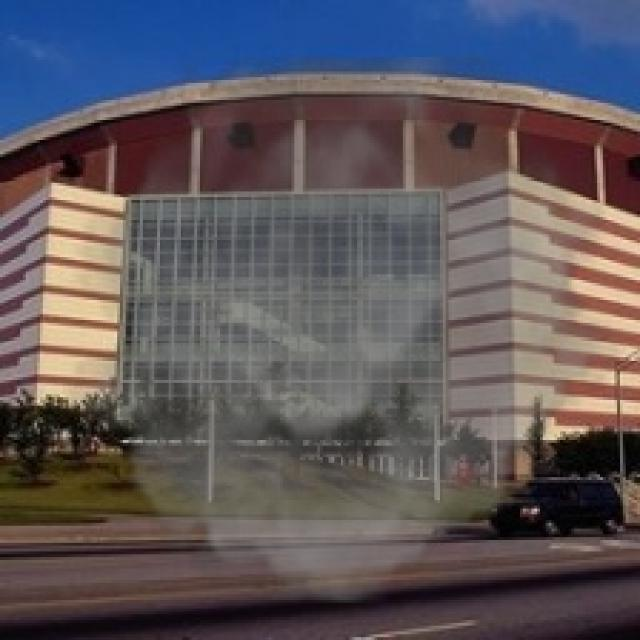smoke: (63, 57, 626, 603)
